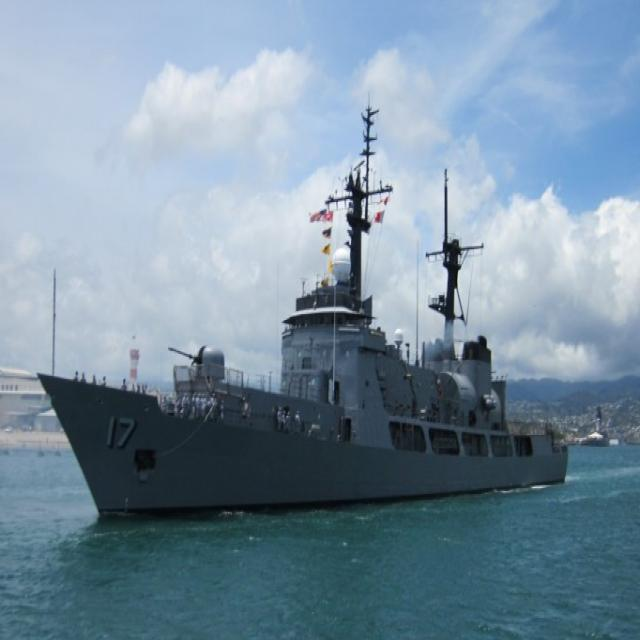Fragata: (33, 47, 573, 538)
